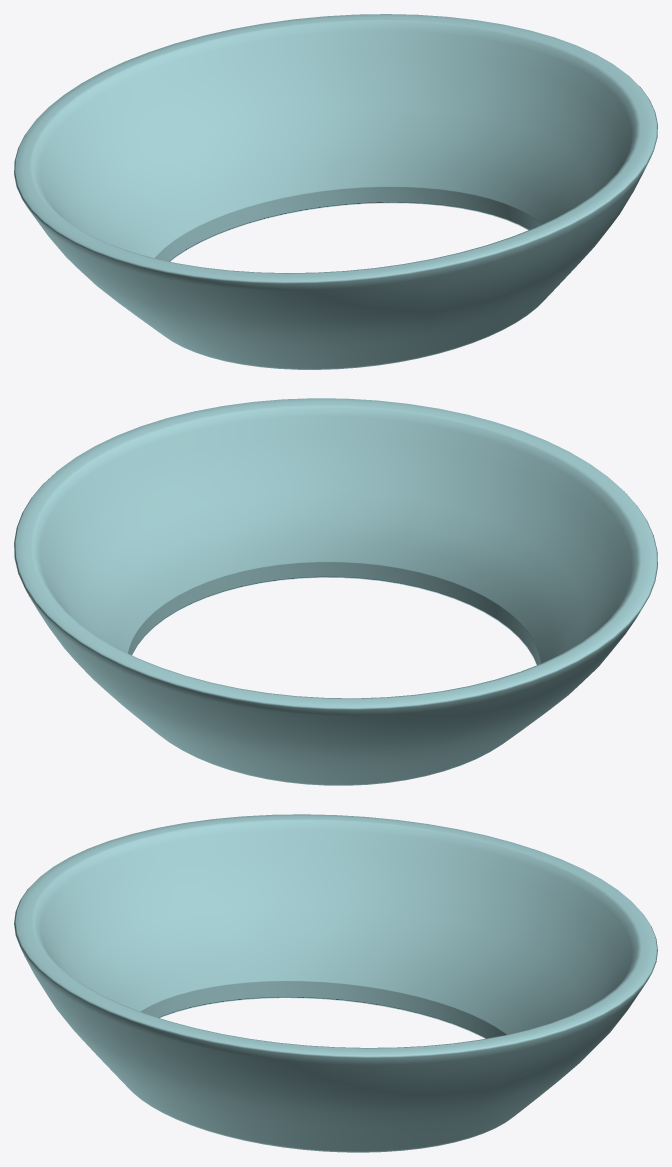
3 renders of one model, top to bottom at view 1: azimuth 30°, elevation 25°; view 2: azimuth 150°, elevation 25°; view 3: azimuth 270°, elevation 25°, orthographic.
Parts seen in each view (by area): view 1: 左侧眼球前段; view 2: 左侧眼球前段; view 3: 左侧眼球前段.
Part boxes in pixels (bbox=[...]): 左侧眼球前段: bbox=[14, 14, 657, 369]; 左侧眼球前段: bbox=[14, 398, 657, 785]; 左侧眼球前段: bbox=[14, 814, 657, 1152].
Bounding box in the file's own units: 0.0325 × 0.00968 × 0.0325.
